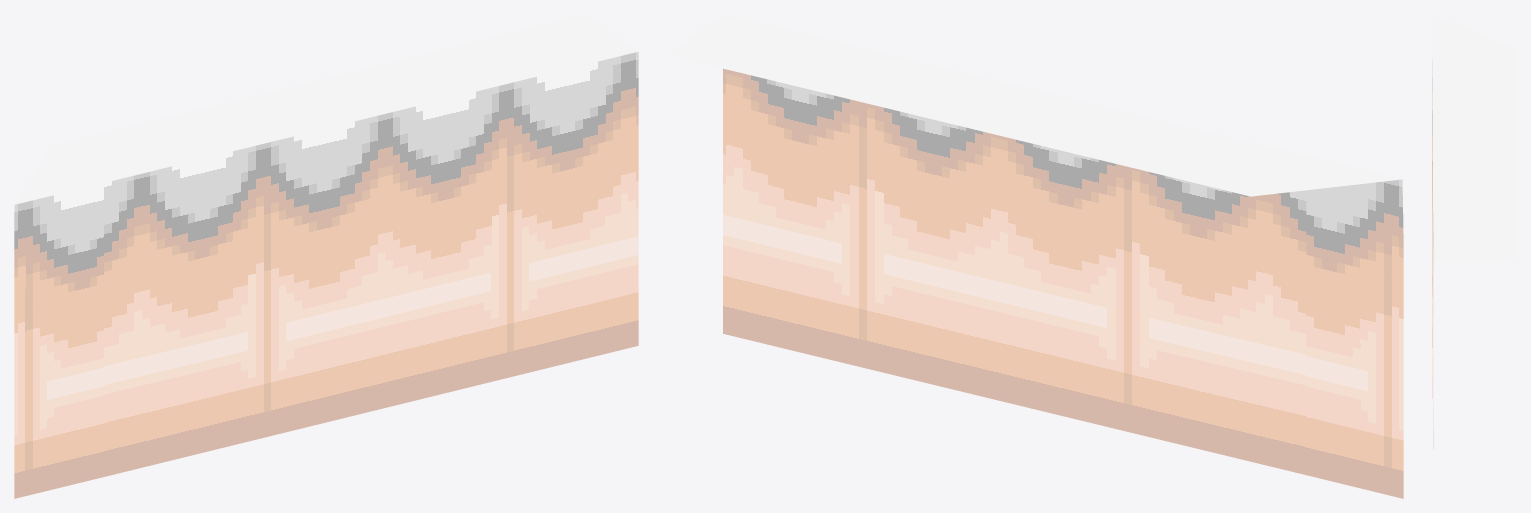
3 renders of one model, left to right at view 1: azimuth 30°, elevation 25°; view 2: azimuth 150°, elevation 25°; view 3: azimuth 270°, elevation 25°, orthographic. The views are drawn at different scales.
Size of the model in its own units: 3.51 by 1.58 by 0.5083.
1 material, 1 textured.
